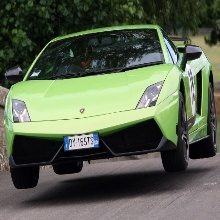no damage: (4, 24, 218, 188)
